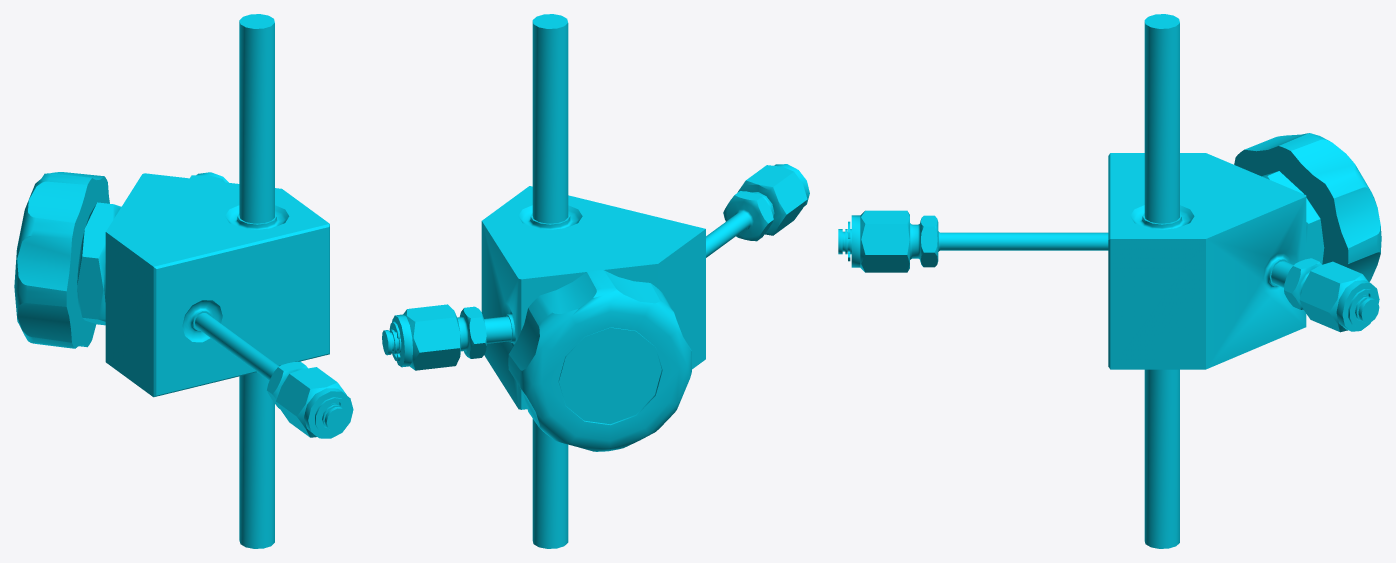
The model's file is mytest1.gltf.
3 renders of one model, left to right at view 1: azimuth 30°, elevation 25°; view 2: azimuth 150°, elevation 25°; view 3: azimuth 270°, elevation 25°, orthographic.
Parts seen in each view (by area): view 1: *A8; view 2: *A8; view 3: *A8.
Boxes of the visible parts, x1,y1,x2,y2 form: *A8: [14, 14, 353, 548]; *A8: [382, 14, 809, 548]; *A8: [838, 14, 1381, 548].
Size of the model in its own units: 106 by 203 by 192.
